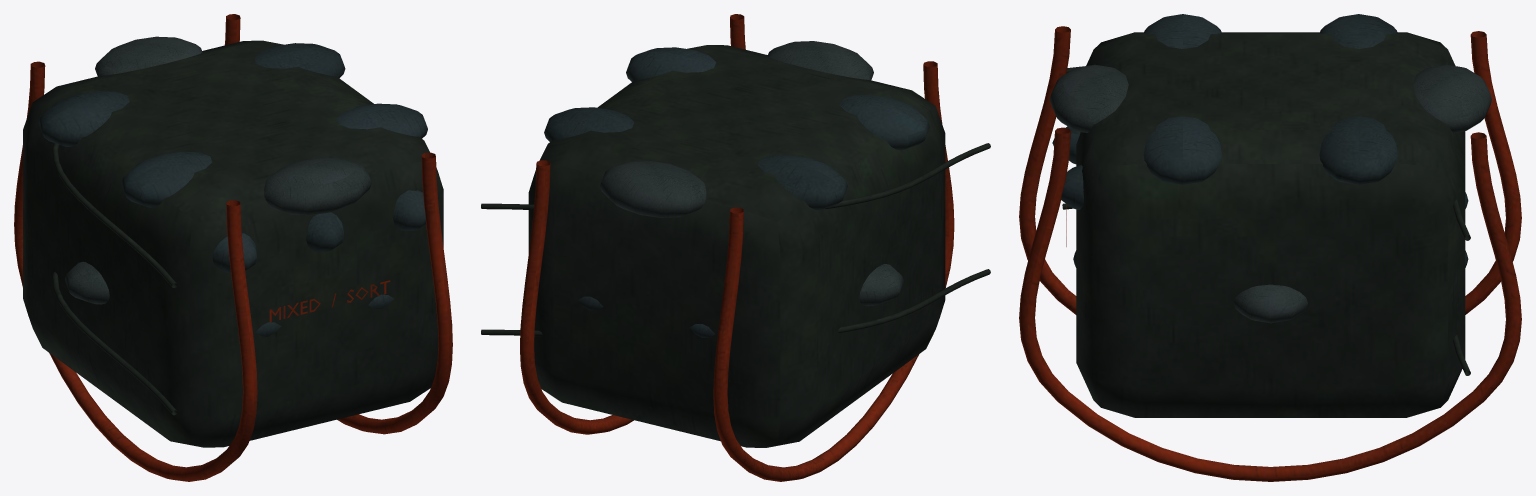
Rendered from WasteBundle.glb.
3 renders of one model, left to right at view 1: azimuth 30°, elevation 25°; view 2: azimuth 150°, elevation 25°; view 3: azimuth 270°, elevation 25°, orthographic. The views are drawn at different scales.
Parts seen in each view (by area): view 1: VIS_DirtyCanvas, VIS_SafetyOrange, VIS_WastePlastic, VIS_WetSteel; view 2: VIS_DirtyCanvas, VIS_SafetyOrange, VIS_WastePlastic, VIS_WetSteel; view 3: VIS_DirtyCanvas, VIS_SafetyOrange, VIS_WastePlastic, VIS_WetSteel.
Part boxes in pixels (x1,y1,x2,y2): VIS_DirtyCanvas: [23, 40, 443, 447]; VIS_SafetyOrange: [14, 14, 452, 481]; VIS_WastePlastic: [38, 43, 427, 336]; VIS_WetSteel: [65, 36, 371, 304]; VIS_DirtyCanvas: [481, 45, 990, 447]; VIS_SafetyOrange: [520, 14, 954, 481]; VIS_WastePlastic: [544, 47, 929, 337]; VIS_WetSteel: [600, 41, 903, 306]; VIS_DirtyCanvas: [1062, 32, 1470, 417]; VIS_SafetyOrange: [1019, 26, 1521, 481]; VIS_WastePlastic: [1052, 14, 1468, 267]; VIS_WetSteel: [1049, 64, 1491, 323].
Size of the model in its own units: 0.7652 by 0.7325 by 0.9437.
Materials: 4 (4 with a texture image).
